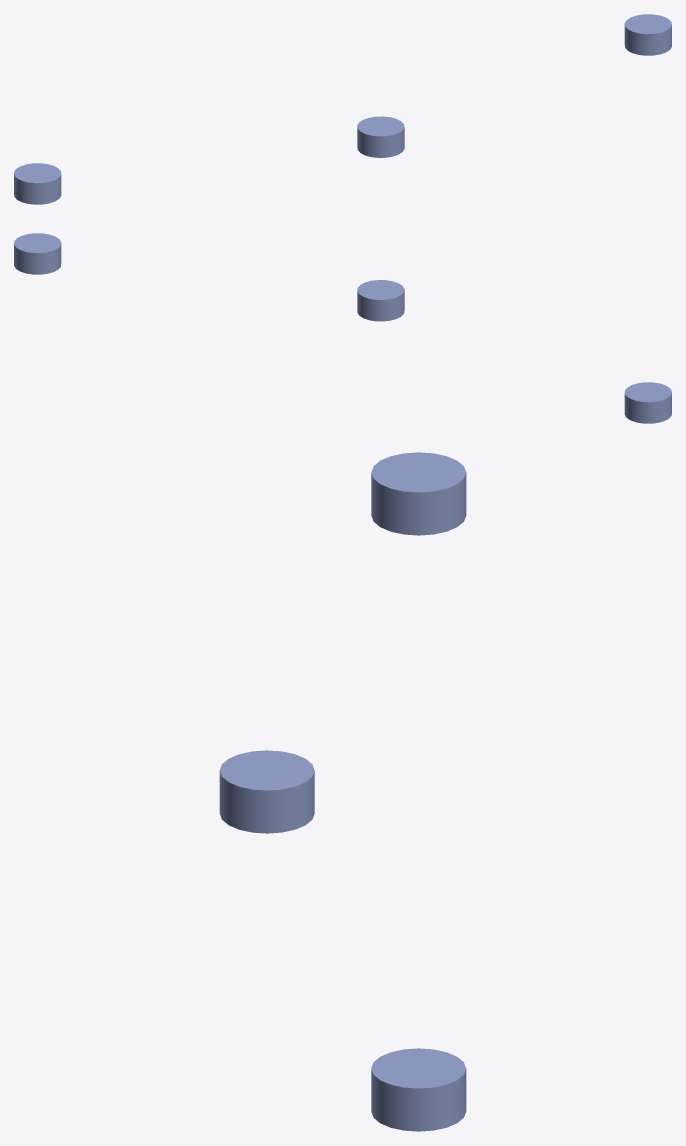
Rendered from Lights-Ramp02.FBX.
The picture shows the model from 3 angles, top to bottom: view 1: azimuth 30°, elevation 25°; view 2: azimuth 150°, elevation 25°; view 3: azimuth 270°, elevation 25°; orthographic projection. The views are drawn at different scales.
Visible parts, largest first — view 1: Cylinder29, Cylinder27, Cylinder25; view 2: Cylinder29, Cylinder27, Cylinder25; view 3: Cylinder25, Cylinder29, Cylinder27.
Part boxes in pixels (x1=…): Cylinder29: x1=14, y1=163, x2=61, y2=204; Cylinder27: x1=624, y1=14, x2=671, y2=55; Cylinder25: x1=357, y1=116, x2=404, y2=157; Cylinder29: x1=624, y1=382, x2=671, y2=423; Cylinder27: x1=14, y1=233, x2=61, y2=274; Cylinder25: x1=357, y1=280, x2=404, y2=321; Cylinder25: x1=219, y1=750, x2=314, y2=833; Cylinder29: x1=371, y1=452, x2=466, y2=535; Cylinder27: x1=371, y1=1048, x2=466, y2=1131.
Bounding box in the file's own units: 12673 × 2076 × 400.
